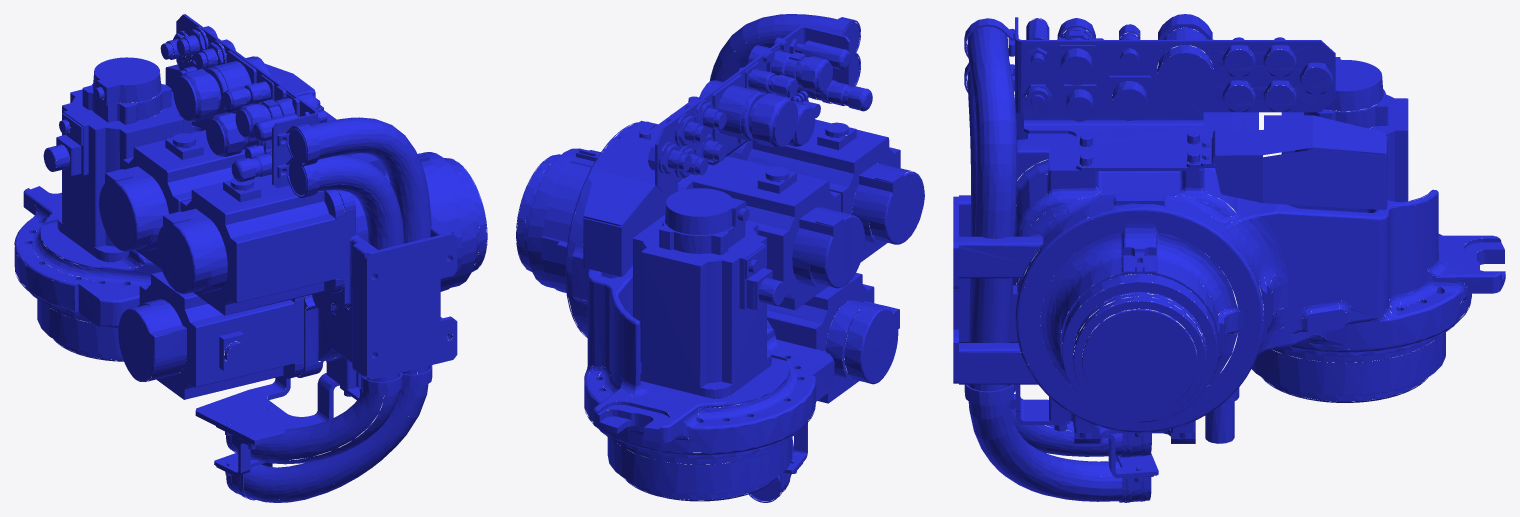
3 renders of one model, left to right at view 1: azimuth 30°, elevation 25°; view 2: azimuth 150°, elevation 25°; view 3: azimuth 270°, elevation 25°, orthographic. The views are drawn at different scales.
Visible parts, largest first — view 1: /Link3/Link3_002-mesh/0; view 2: /Link3/Link3_002-mesh/0; view 3: /Link3/Link3_002-mesh/0.
Boxes of the visible parts, x1,y1,x2,y2 form: /Link3/Link3_002-mesh/0: [14, 14, 487, 502]; /Link3/Link3_002-mesh/0: [516, 14, 924, 502]; /Link3/Link3_002-mesh/0: [953, 14, 1505, 502].
Size of the model in its own units: 0.453 by 0.5344 by 0.5656.
